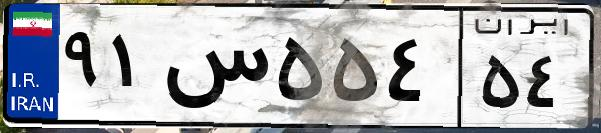1: (110, 28, 158, 98)
4: (385, 28, 445, 110), (525, 38, 570, 115)
5: (270, 28, 330, 110), (330, 28, 385, 110), (475, 38, 525, 113)
9: (57, 26, 110, 100)
س: (158, 20, 270, 120)
